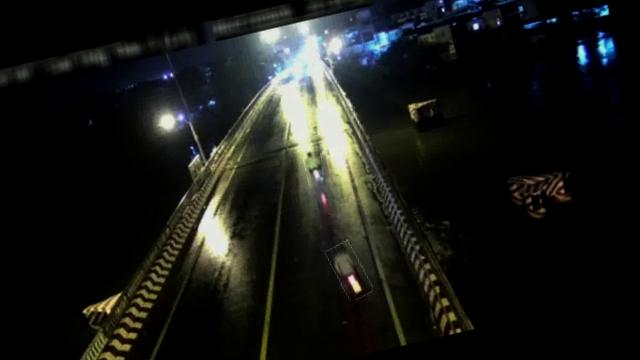Bike: (326, 239, 372, 303), (302, 150, 328, 188)
